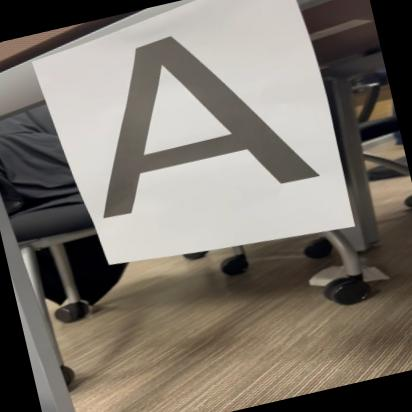seat: (63, 5, 330, 240)
